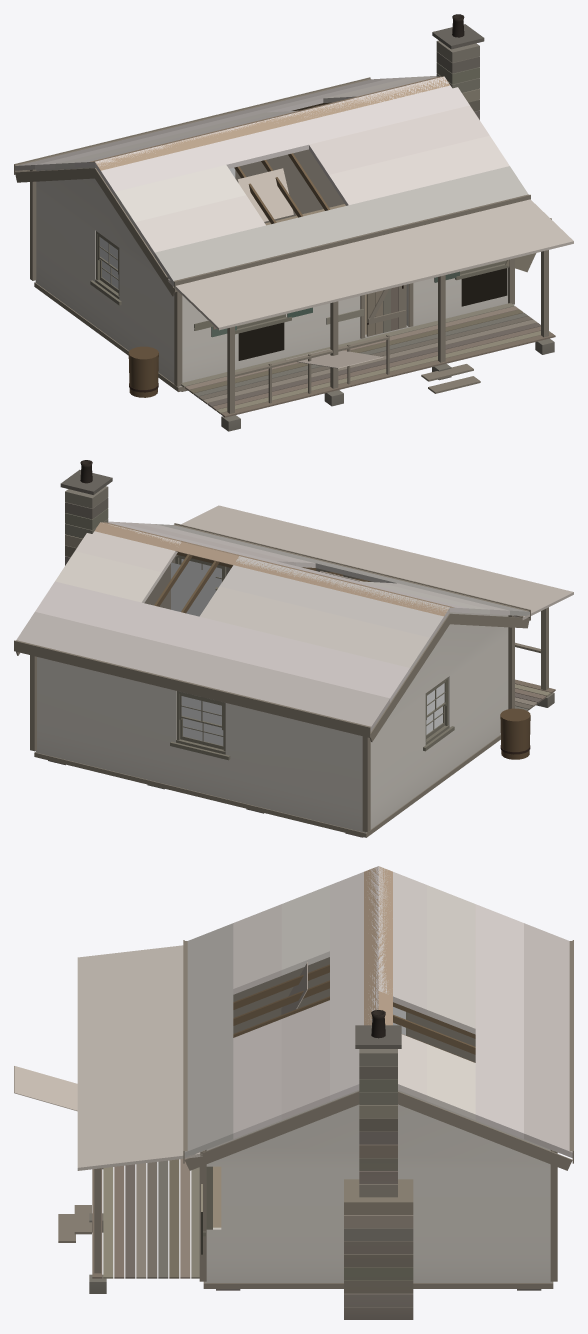
Rendered from cabin_abandoned_a_broken_roof.glb.
3 renders of one model, top to bottom at view 1: azimuth 30°, elevation 25°; view 2: azimuth 150°, elevation 25°; view 3: azimuth 270°, elevation 25°, orthographic. The views are drawn at different scales.
Parts seen in each view (by area): view 1: body, door, windows; view 2: body, windows, window_light; view 3: body.
Boxes of the visible parts, x1,y1,x2,y2 form: body: [14, 14, 573, 431]; door: [366, 284, 406, 336]; windows: [100, 237, 118, 288]; body: [14, 460, 573, 837]; windows: [181, 559, 444, 745]; window_light: [171, 562, 215, 616]; body: [14, 866, 573, 1319].
Size of what is drawn, in the model's own units: 9.85 by 5.62 by 9.67.
